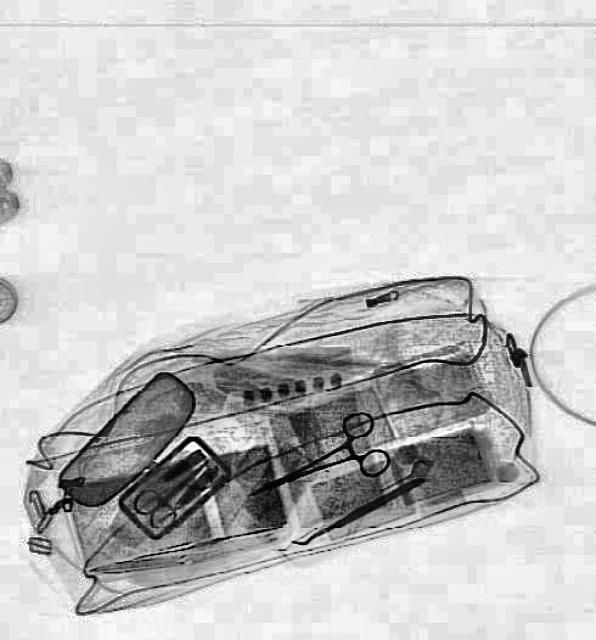Scissors: (232, 404, 394, 528), (125, 444, 225, 534)
